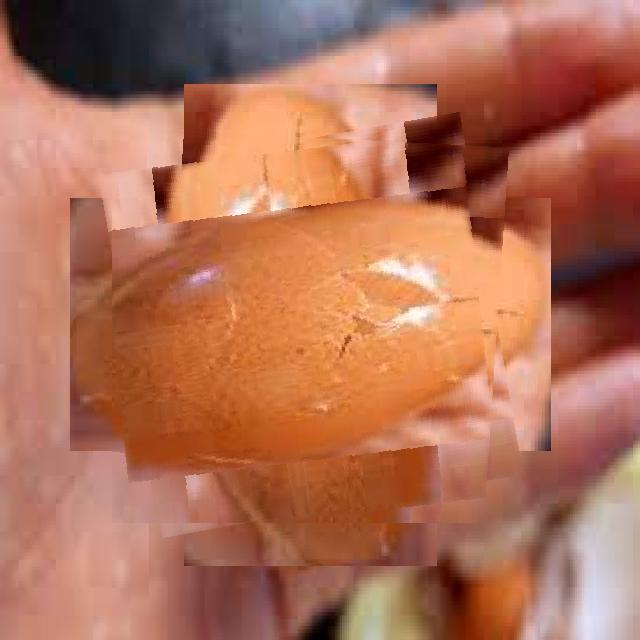biodegradable: (112, 127, 509, 523)
